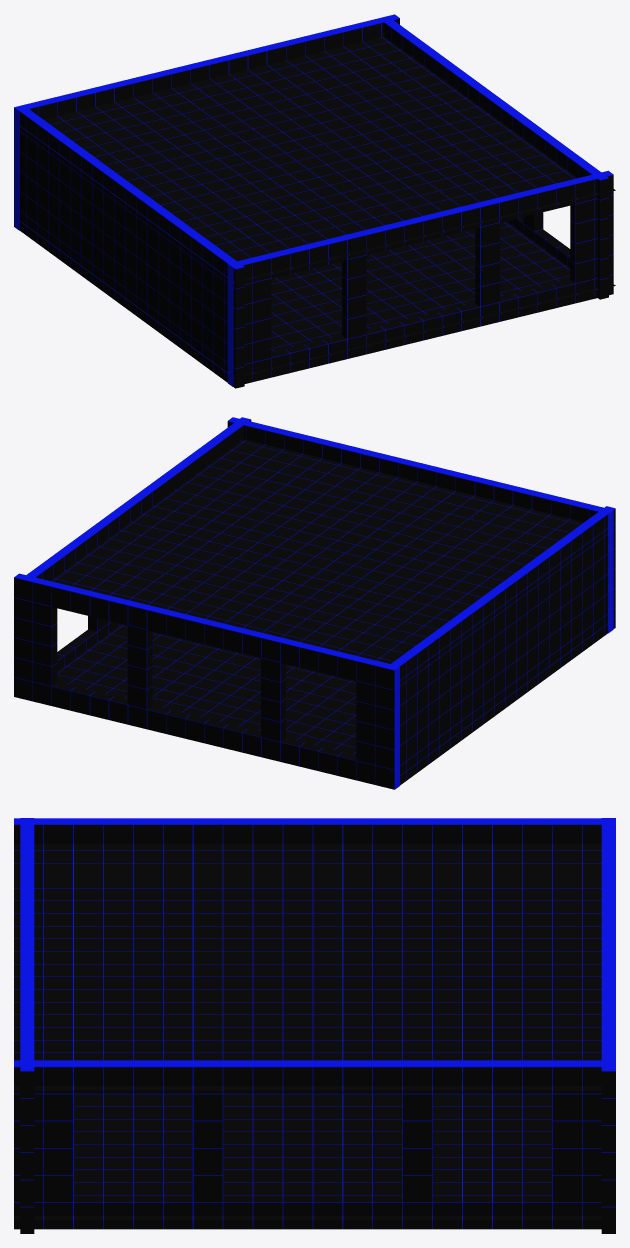
File: blue_stage_simple.gltf.glb
The picture shows the model from 3 angles, top to bottom: view 1: azimuth 30°, elevation 25°; view 2: azimuth 150°, elevation 25°; view 3: azimuth 270°, elevation 25°; orthographic projection. The views are drawn at different scales.
Visible parts, largest first — view 1: Cube.005, Cube.002, Cube.004, Cube, Cube.001, Cube.003; view 2: Cube.005, Cube.001, Cube.002, Cube, Cube.004, Cube.003; view 3: Cube.005, Cube.003, Cube, Cube.002, Cube.001, Cube.004.
Boxes of the visible parts, x1,y1,x2,y2 form: Cube.005: (19,36,615,282); Cube.002: (16,106,244,388); Cube.004: (227,170,613,386); Cube: (19,220,615,378); Cube.001: (14,14,399,230); Cube.003: (381,17,608,299); Cube.005: (50,439,614,680); Cube.001: (14,573,399,789); Cube.002: (387,506,615,785); Cube: (57,618,615,775); Cube.004: (227,417,613,633); Cube.003: (22,417,251,670); Cube.005: (14,844,601,1090); Cube.003: (14,1060,612,1229); Cube: (14,1094,601,1220); Cube.002: (14,818,612,843); Cube.001: (601,818,615,1233); Cube.004: (20,818,34,1233).
Size of the model in its own units: 16.72 by 5.02 by 16.82.
